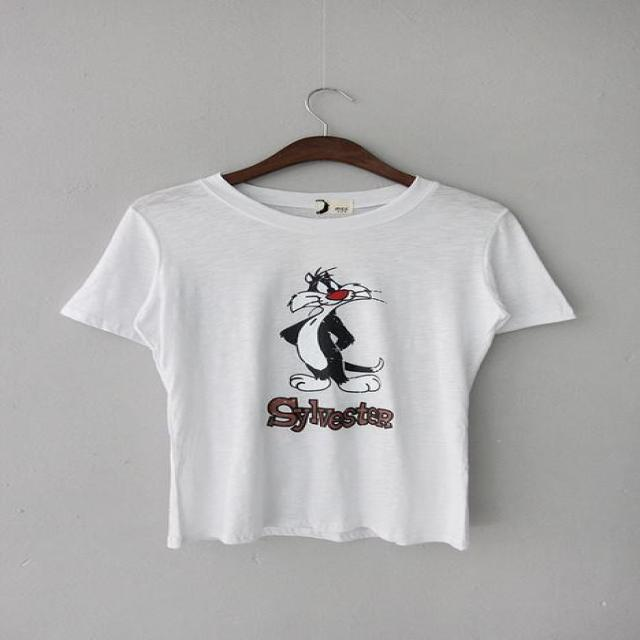short sleeve top: (62, 176, 570, 551)
